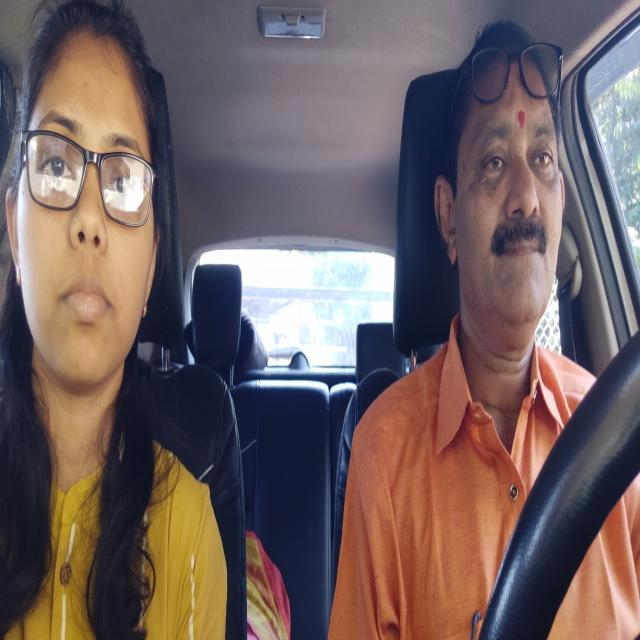person: (10, 14, 164, 384), (435, 43, 573, 340)
